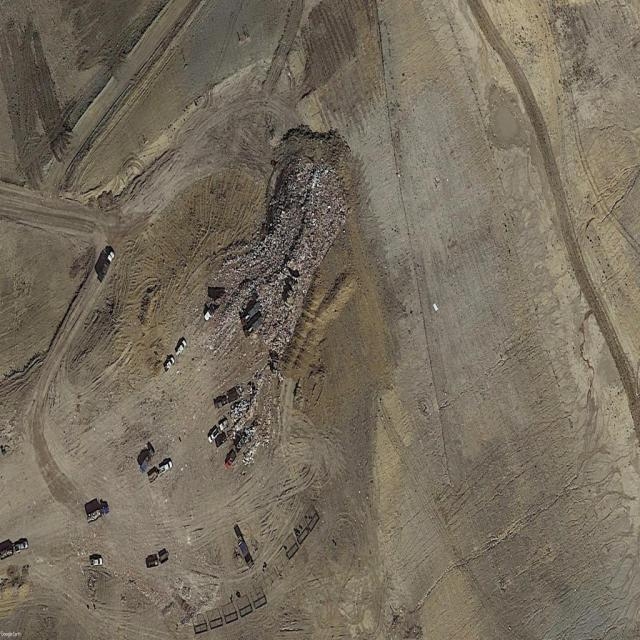dump_site: (205, 126, 358, 365), (238, 415, 263, 452), (241, 436, 262, 468), (230, 397, 251, 421), (87, 509, 102, 523), (0, 546, 14, 561)
